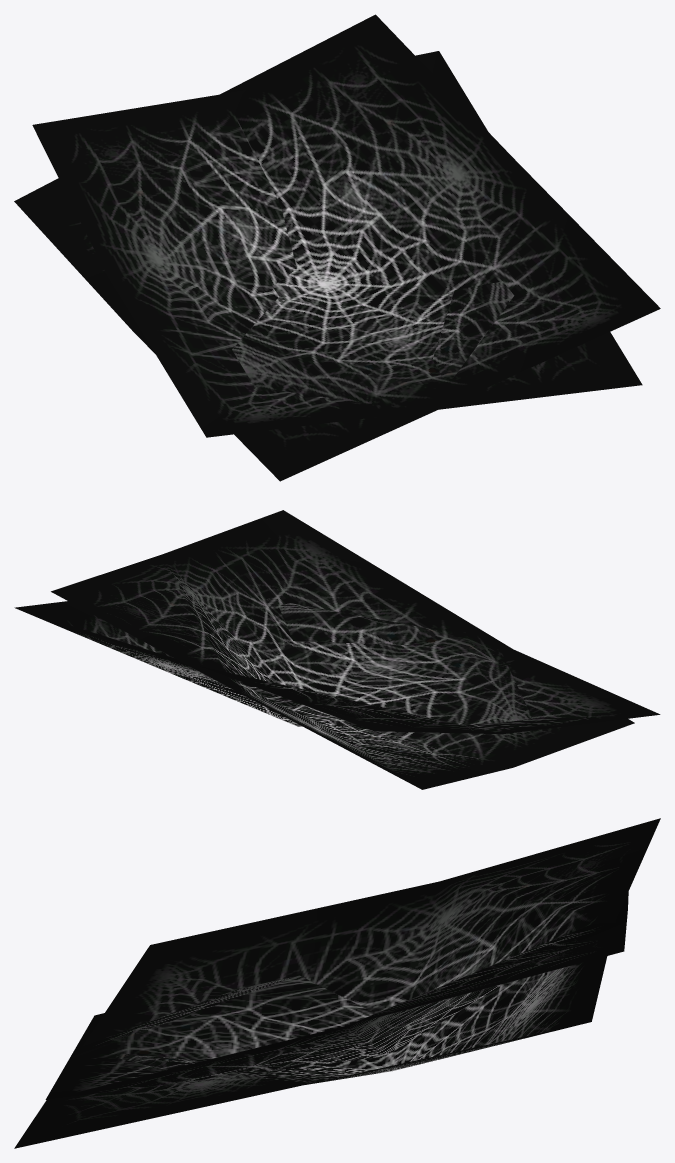
Rendered from DWARF_PALACE_SPIDERWEB22.fbx.
3 views of the same model, one above another, from view 1: azimuth 30°, elevation 25°; view 2: azimuth 150°, elevation 25°; view 3: azimuth 270°, elevation 25° (orthographic). The views are drawn at different scales.
Visible parts, largest first — view 1: DWARF_PALACE_SPIDERWEB22; view 2: DWARF_PALACE_SPIDERWEB22; view 3: DWARF_PALACE_SPIDERWEB22.
Boxes of the visible parts, <box> form: DWARF_PALACE_SPIDERWEB22: <box>14,14,660,481</box>; DWARF_PALACE_SPIDERWEB22: <box>14,510,660,789</box>; DWARF_PALACE_SPIDERWEB22: <box>14,818,660,1148</box>.
Size of the model in its own units: 65899 by 31956 by 76071.
1 material, 1 textured.
